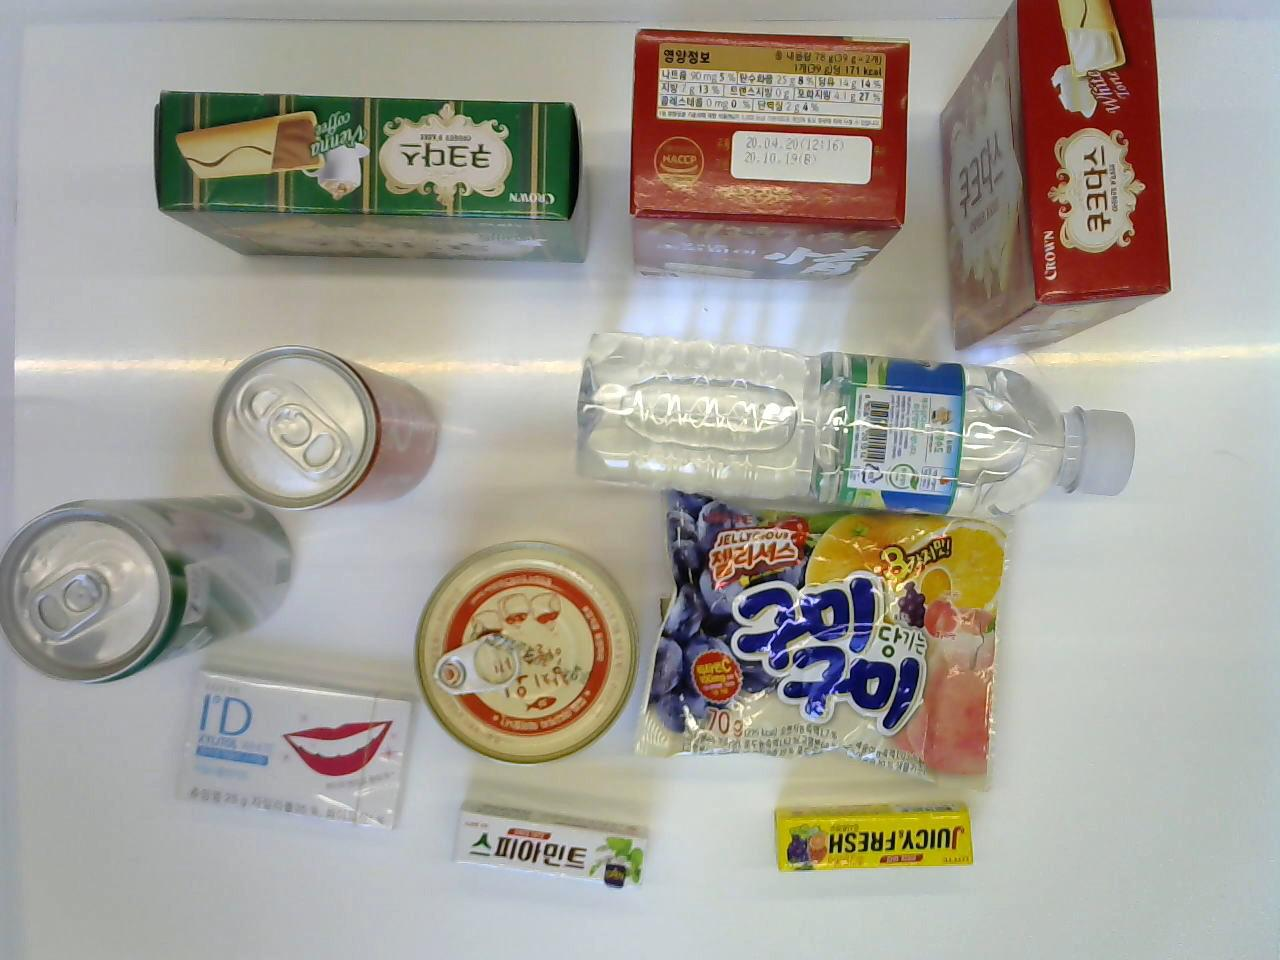ID_gum: (165, 671, 419, 836)
chocopie: (623, 23, 912, 287)
cidar: (2, 489, 300, 689)
coke: (210, 335, 444, 516)
couque_coffee: (147, 80, 598, 267)
couque_white: (935, 0, 1180, 366)
gumi_gumi: (637, 486, 1005, 797)
juicyfresh: (763, 800, 976, 882)
samdasu: (566, 311, 1148, 531)
spearmint: (442, 800, 652, 901)
tuna: (408, 535, 642, 770)
